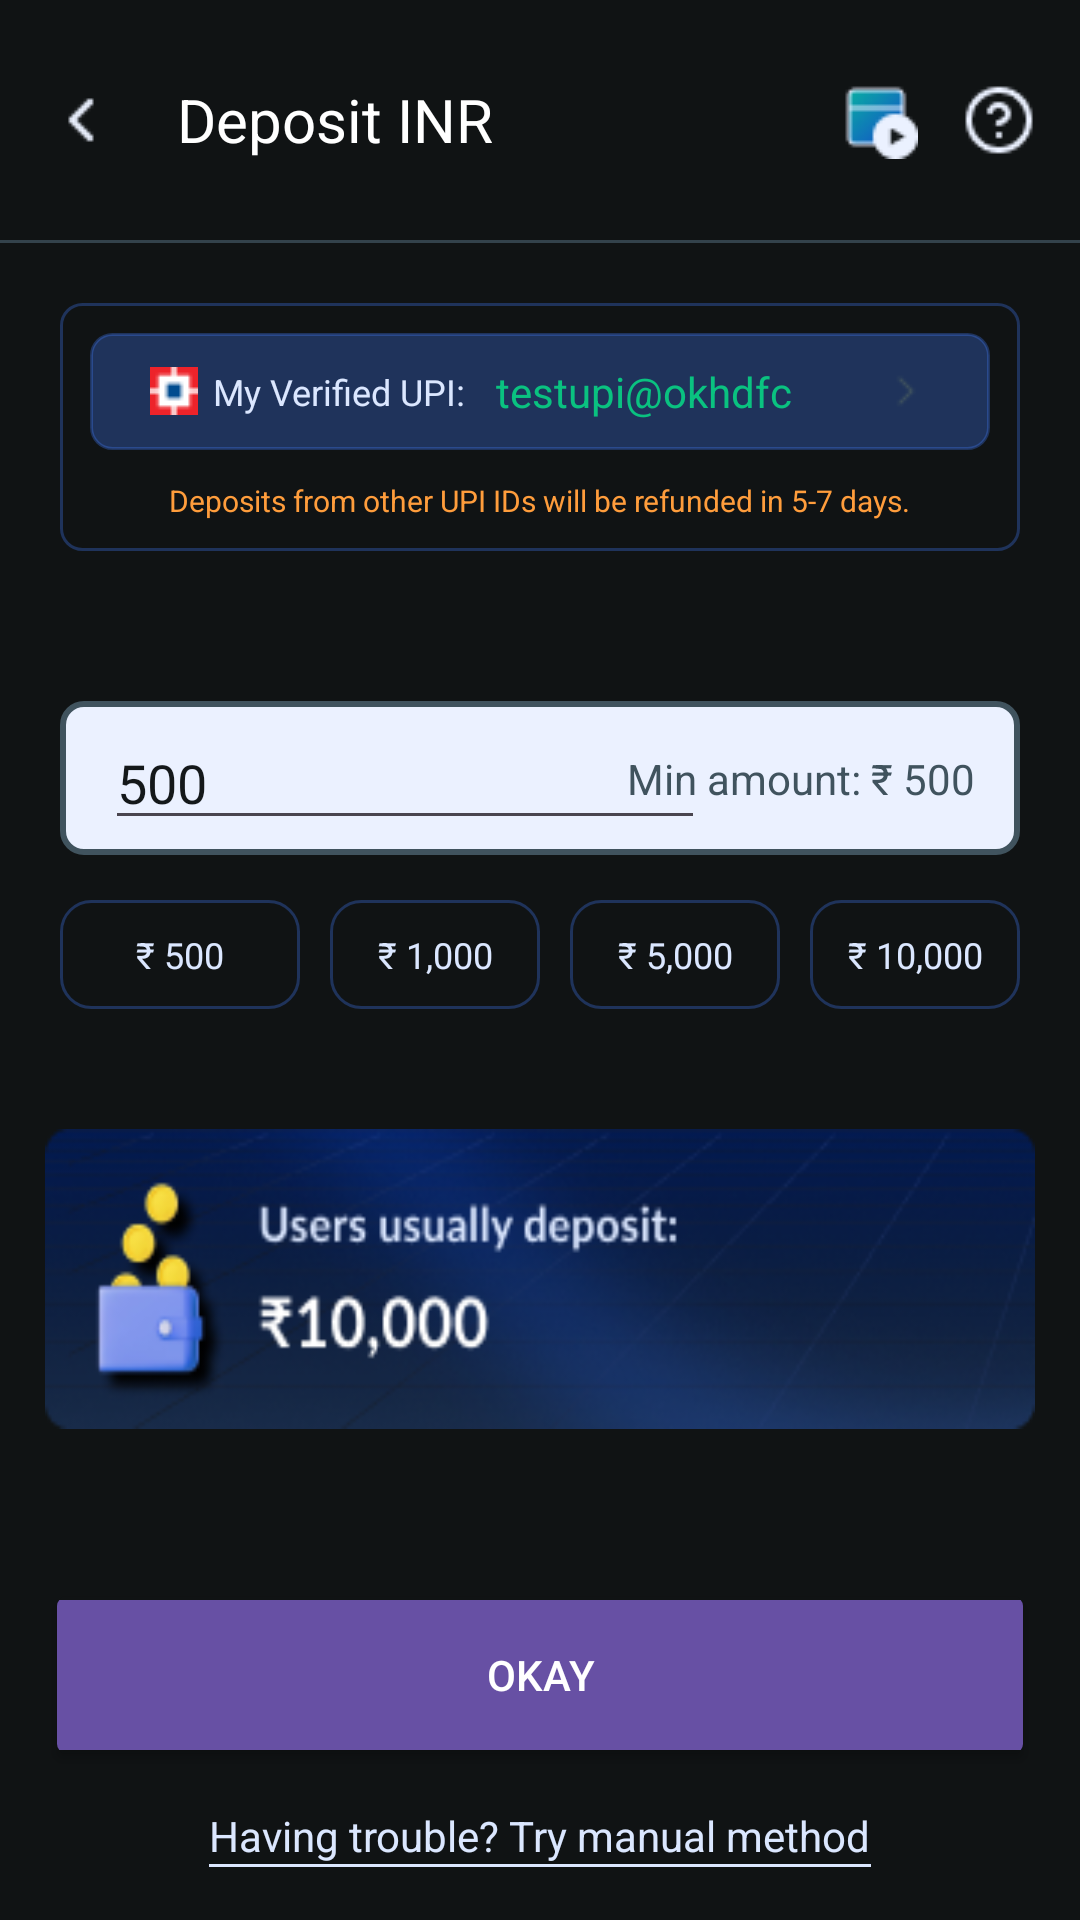

Named icons in this screenshot (1080px×1920px) and their bounding boxes, box(x1, y1, x2, y2):
help circled: box(965, 86, 1033, 154)
video play: box(845, 86, 918, 159)
